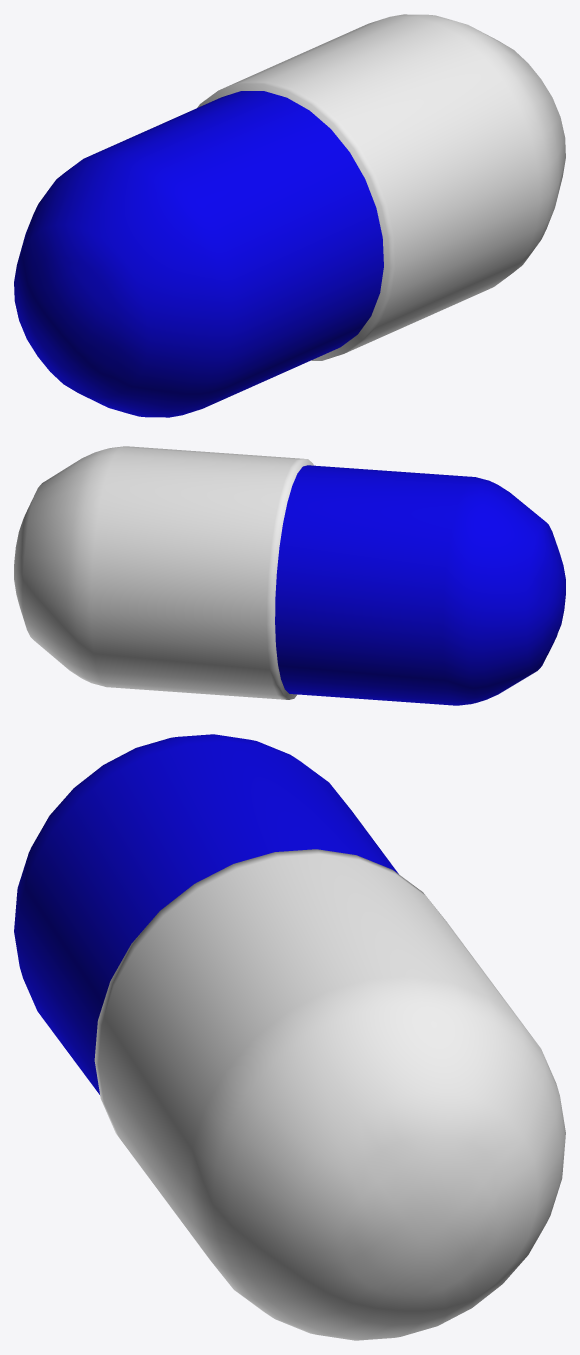
Rendered from bluepill.glb.
The picture shows the model from 3 angles, top to bottom: view 1: azimuth 30°, elevation 25°; view 2: azimuth 150°, elevation 25°; view 3: azimuth 270°, elevation 25°; orthographic projection. The views are drawn at different scales.
Visible parts, largest first — view 1: Cylinder; view 2: Cylinder; view 3: Cylinder.
Boxes of the visible parts, <box> form: Cylinder: <box>14,14,565,417</box>; Cylinder: <box>14,446,565,705</box>; Cylinder: <box>14,734,565,1340</box>.
Size of the model in its own units: 0.3371 by 0.1521 by 0.2106.
